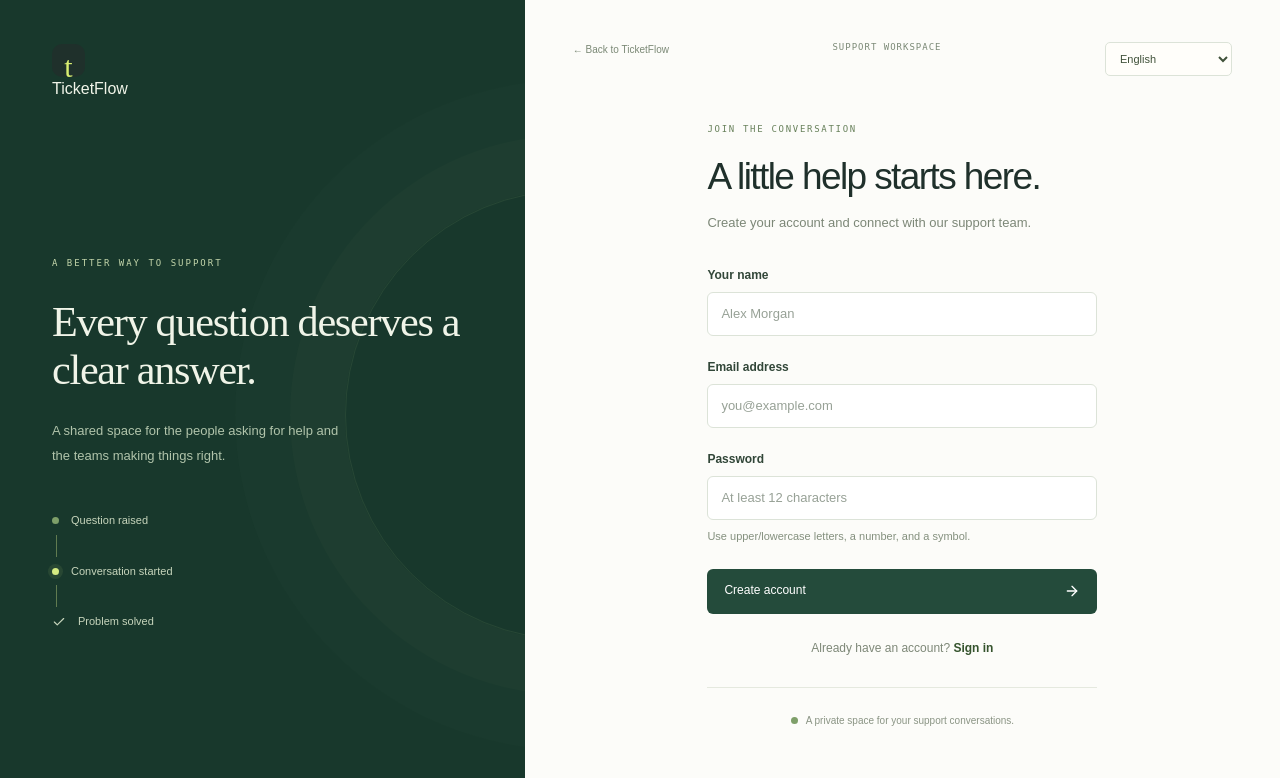
Test case: shows field errors before an invalid registration can be submitted
This screenshot has width=1280, height=778.
Click the button "Create account". click: coordinates (765, 590)
box: 707,568 -> 1097,614
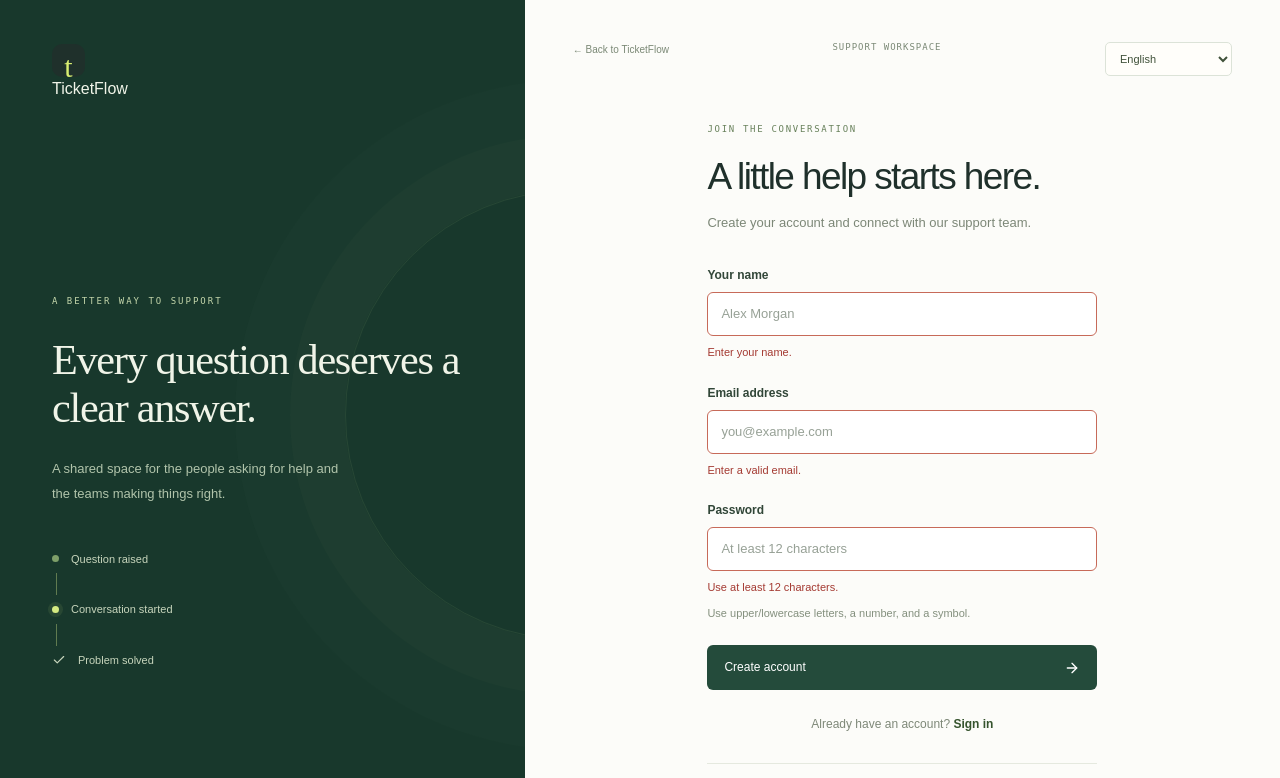
Now the text "Enter your name." is shown, box 707,346 -> 792,358
Now the text "Enter a valid email." is shown, box 707,464 -> 801,476
Now the text "Use at least 12 characters." is shown, box 707,581 -> 838,593
